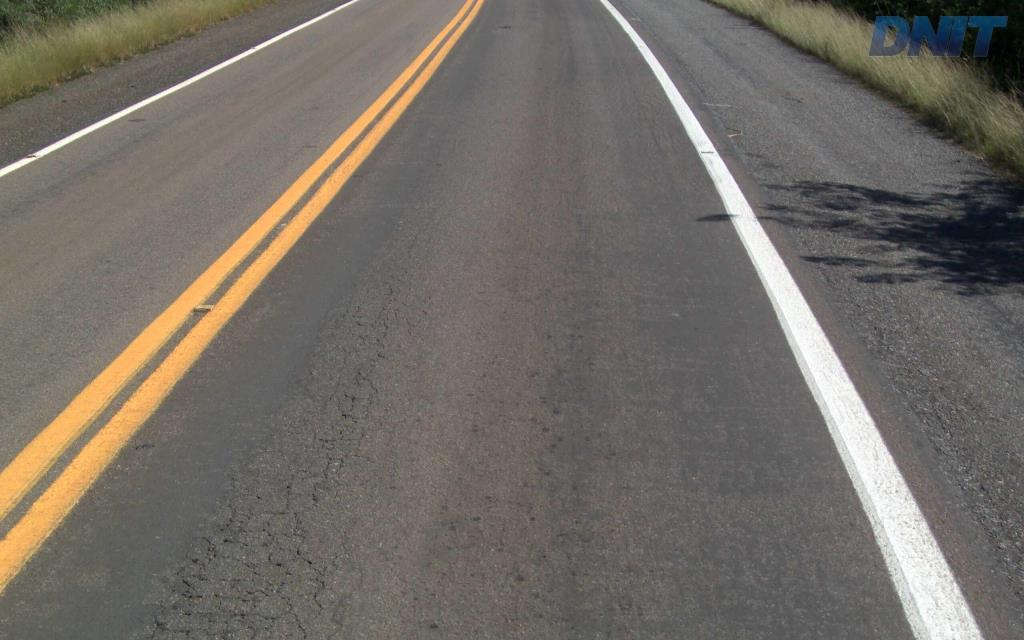crack: (168, 550, 210, 608), (212, 503, 252, 549), (193, 610, 239, 639)
